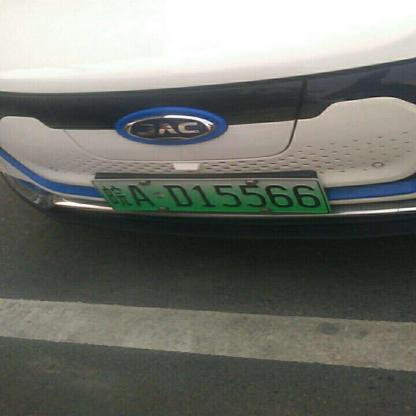lp: (92, 180, 330, 212)
